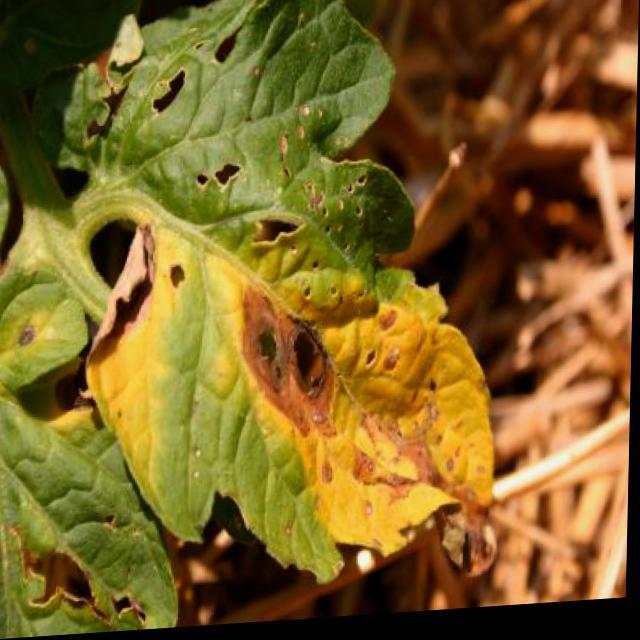Tomato Early blight leaf: (121, 41, 528, 594)
